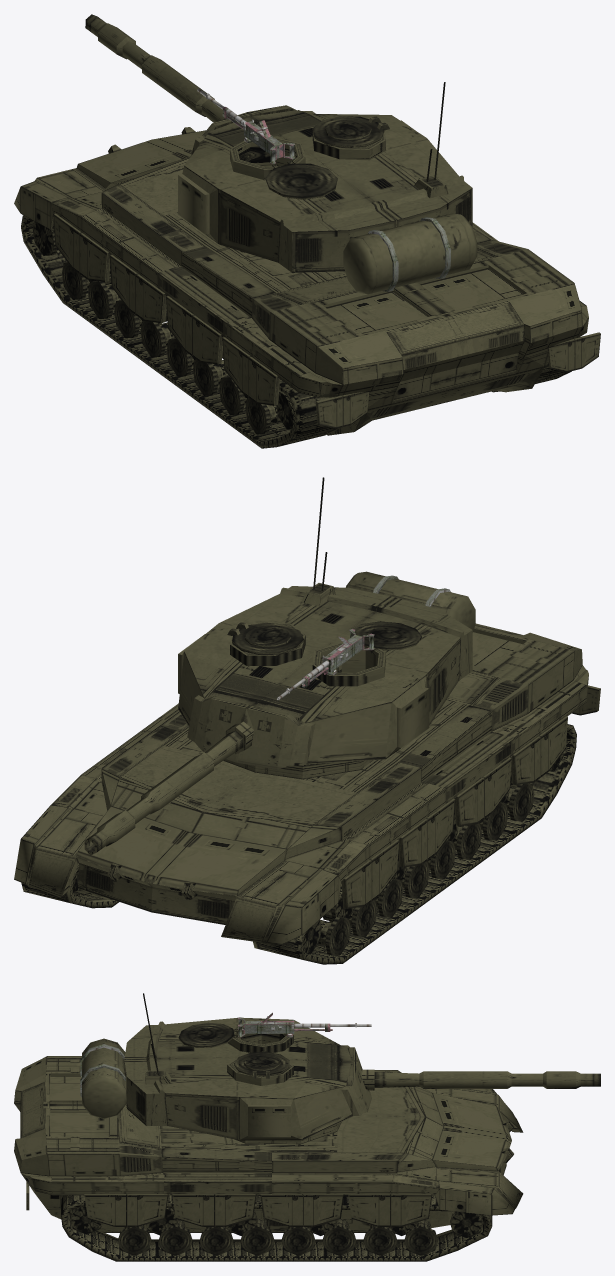
Rendered from Model_Misc_Tank2.fbx.
3 views of the same model, one above another, from view 1: azimuth 30°, elevation 25°; view 2: azimuth 150°, elevation 25°; view 3: azimuth 270°, elevation 25° (orthographic). The views are drawn at different scales.
Parts seen in each view (by area): view 1: Car_Body, Turret, Gun; view 2: Car_Body, Turret, Gun; view 3: Car_Body, Turret, Gun.
Part boxes in pixels (box(x1,y1,x2,y2)): Car_Body: box(14, 127, 600, 448); Turret: box(178, 82, 477, 294); Gun: box(85, 14, 230, 122); Car_Body: box(14, 623, 600, 964); Turret: box(178, 477, 475, 769); Gun: box(84, 721, 253, 855); Car_Body: box(14, 1056, 523, 1261); Turret: box(80, 993, 371, 1140); Gun: box(362, 1069, 600, 1090).
Size of the model in its own units: 435 by 433 by 970.
